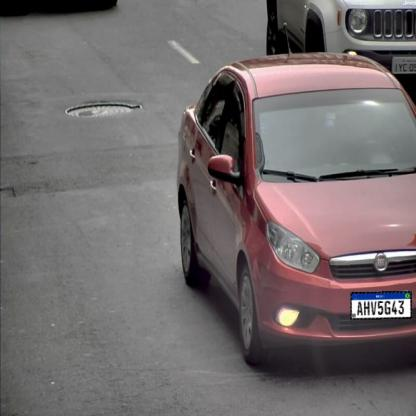PlacaM: (350, 291, 412, 320)
